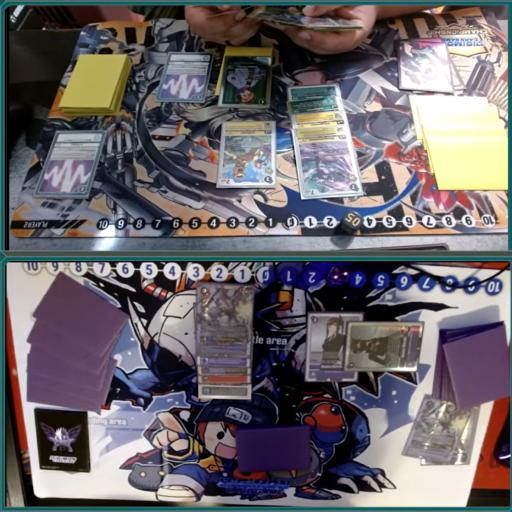card: (295, 132, 365, 207), (400, 394, 475, 462), (34, 132, 107, 198), (216, 120, 279, 192), (195, 281, 254, 357), (302, 313, 365, 384), (344, 320, 424, 372), (214, 56, 274, 110), (157, 52, 211, 104), (450, 401, 480, 470), (290, 111, 350, 135), (285, 83, 344, 106), (288, 95, 342, 119), (197, 385, 253, 401), (196, 361, 253, 376), (194, 373, 250, 387), (196, 354, 251, 368)
